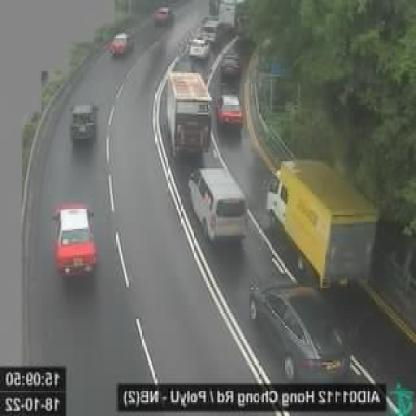Car: (246, 279, 354, 385), (185, 164, 250, 245), (51, 202, 97, 283), (66, 97, 102, 150), (217, 92, 243, 129), (108, 28, 134, 60), (218, 50, 243, 81), (187, 32, 211, 61), (153, 5, 175, 28)
Truck: (263, 158, 377, 289), (156, 68, 215, 161)
